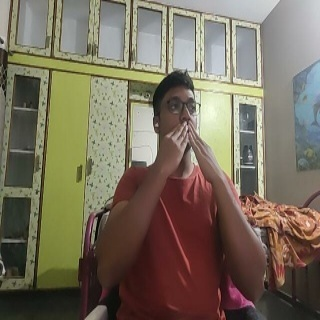Thank You: (154, 120, 226, 196)
